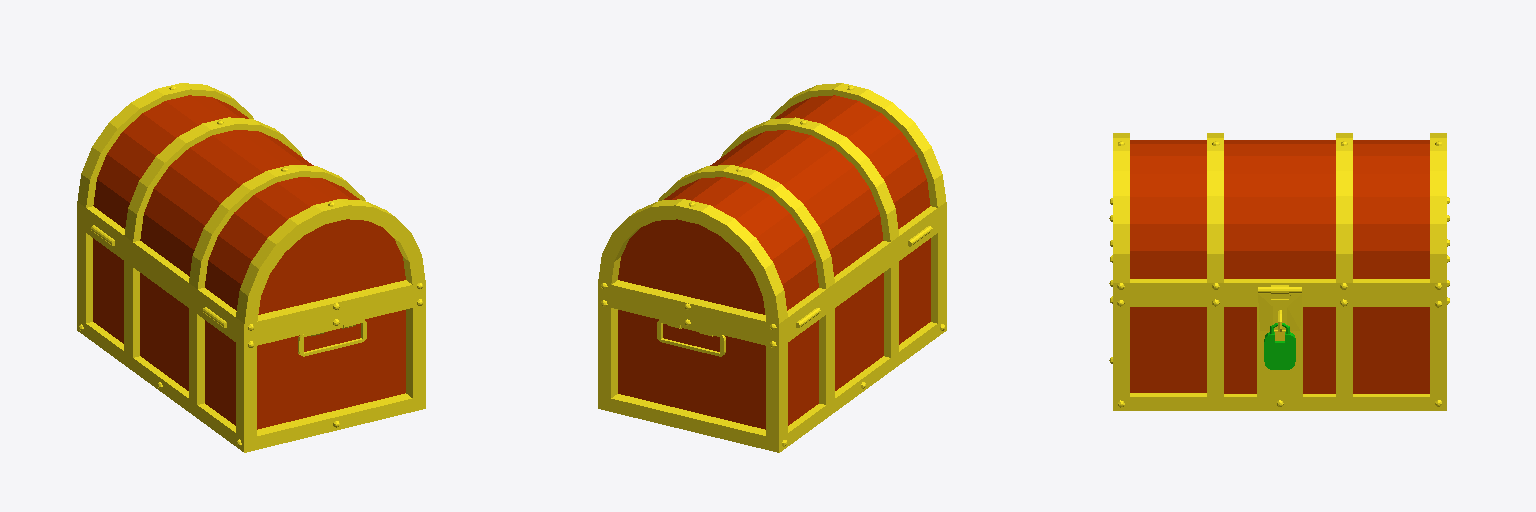
Rendered from Chest.obj.
The picture shows the model from 3 angles: view 1: azimuth 30°, elevation 25°; view 2: azimuth 150°, elevation 25°; view 3: azimuth 270°, elevation 25°; orthographic projection.
Visible parts, largest first — view 1: Dower_chest; view 2: Dower_chest; view 3: Dower_chest.
Boxes of the visible parts, x1,y1,x2,y2 form: Dower_chest: [77, 83, 425, 452]; Dower_chest: [598, 83, 946, 452]; Dower_chest: [1109, 133, 1449, 410].
Bounding box in the file's own units: 1.22 × 1.33 × 1.82.